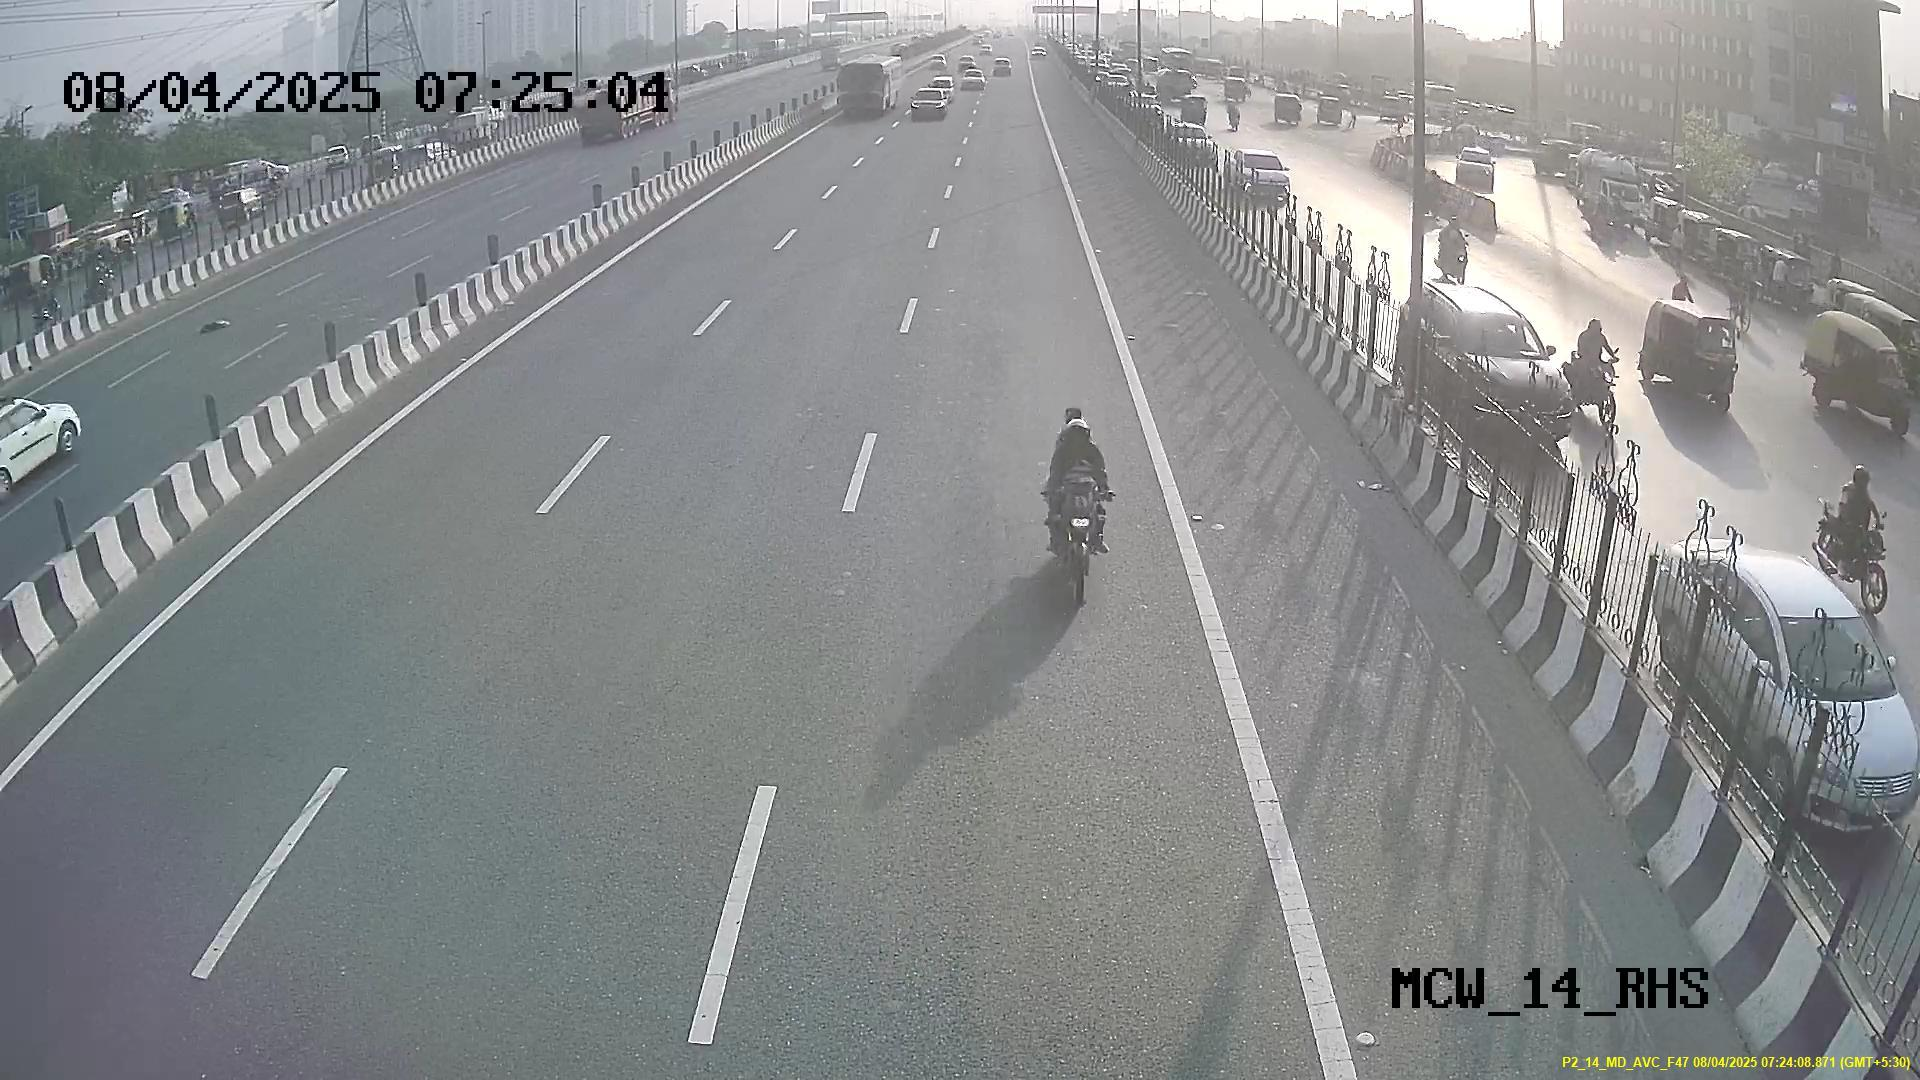bike: (1040, 401, 1125, 605)
